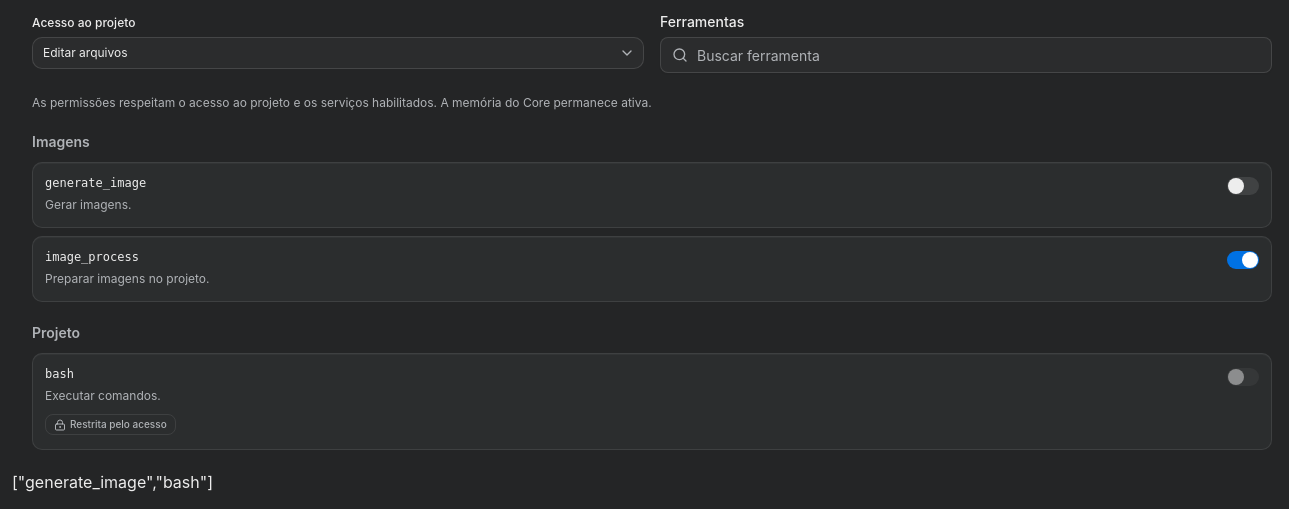
lets a write-files agent toggle image tools while preserving its other denials and command restriction
Expected: the switch named "image_process" is checked, x1=1227 y1=251 x2=1259 y2=269
Expected: the switch named "bash" is not checked, x1=1227 y1=368 x2=1259 y2=386
Click the switch named "generate_image" at point(1243, 186), box x1=1227 y1=177 x2=1259 y2=195
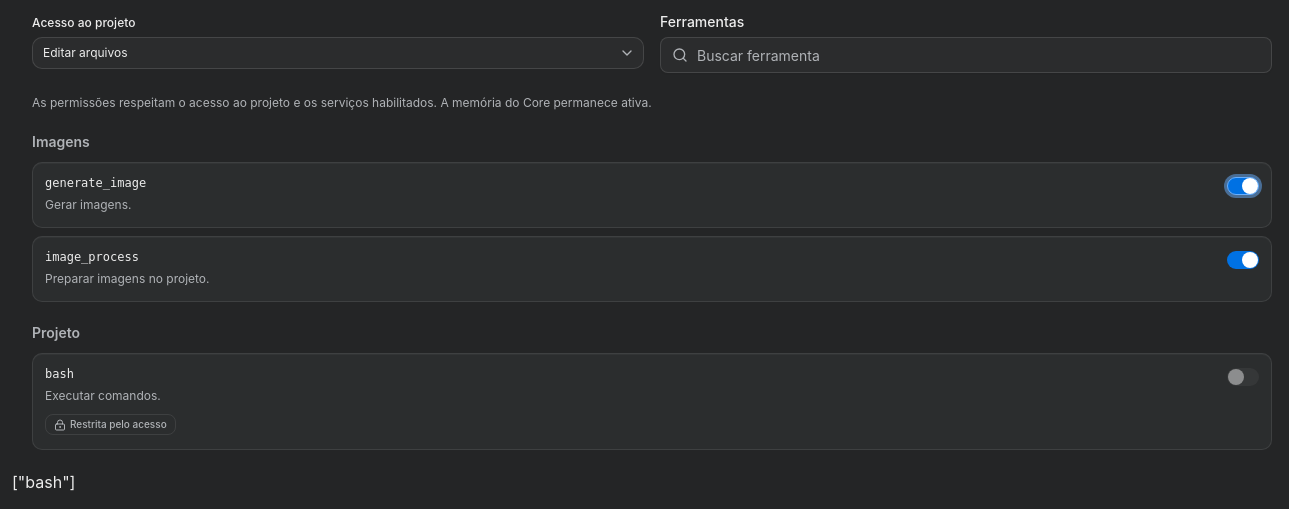
Expected: the switch named "generate_image" is checked, x1=1227 y1=177 x2=1259 y2=195
Expected: the text named "Ferramentas negadas" reads "[\"bash\"]", x1=12 y1=472 x2=75 y2=492
Click the switch named "image_process" at point(1243, 260), box x1=1227 y1=251 x2=1259 y2=269
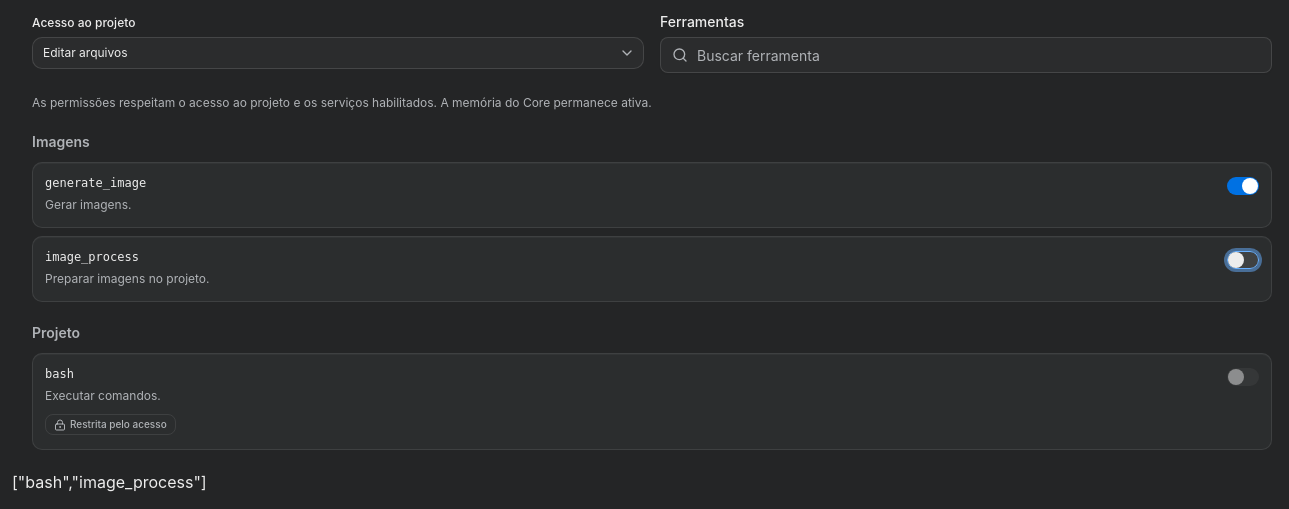
Expected: the switch named "image_process" is not checked, x1=1227 y1=251 x2=1259 y2=269
Expected: the text named "Ferramentas negadas" reads "[\"bash\",\"image_process\"]", x1=12 y1=472 x2=207 y2=492
Click the switch named "generate_image" at point(1243, 186), box x1=1227 y1=177 x2=1259 y2=195
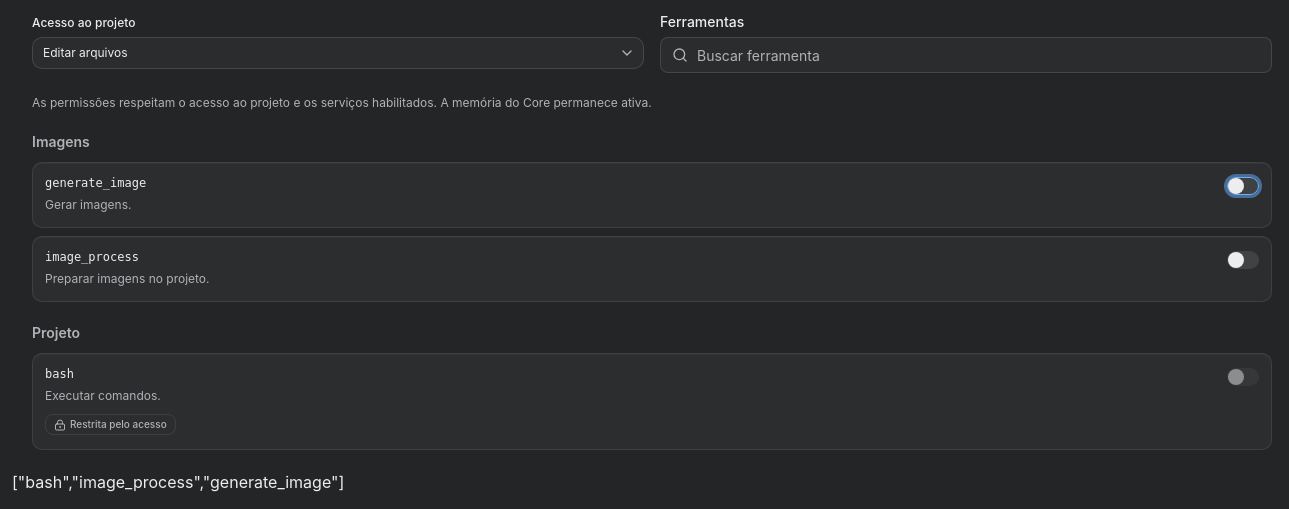
Expected: the switch named "generate_image" is not checked, x1=1227 y1=177 x2=1259 y2=195
Expected: the text named "Ferramentas negadas" reads "[\"bash\",\"image_process\",\"generate_image\"]", x1=12 y1=472 x2=344 y2=492
Click the switch named "image_process" at point(1243, 260), box x1=1227 y1=251 x2=1259 y2=269
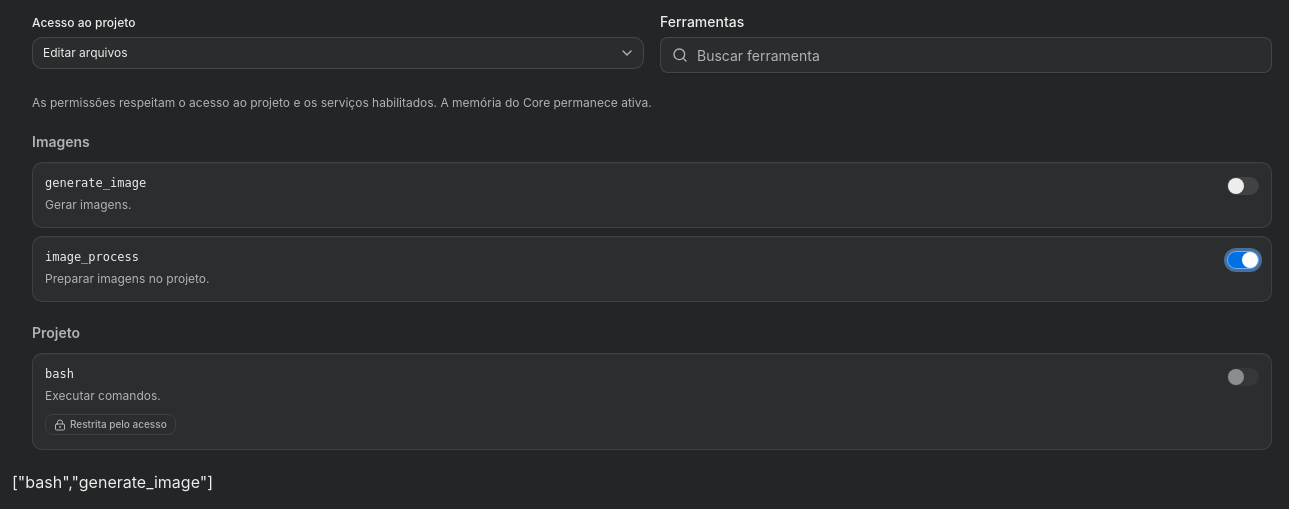
Expected: the switch named "image_process" is checked, x1=1227 y1=251 x2=1259 y2=269
Expected: the text named "Ferramentas negadas" reads "[\"bash\",\"generate_image\"]", x1=12 y1=472 x2=213 y2=492
